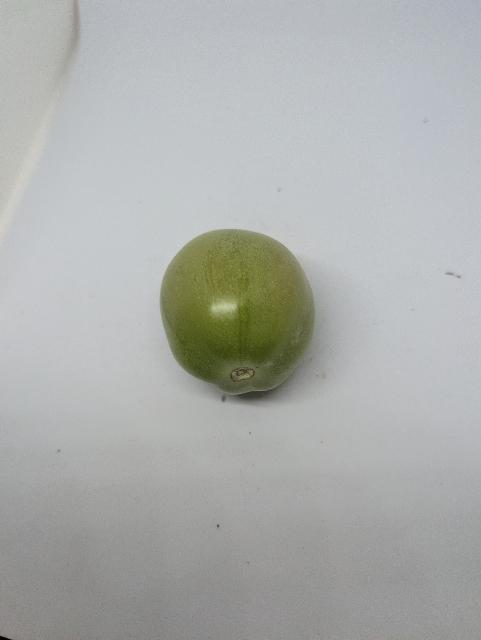green: (158, 226, 318, 399)
